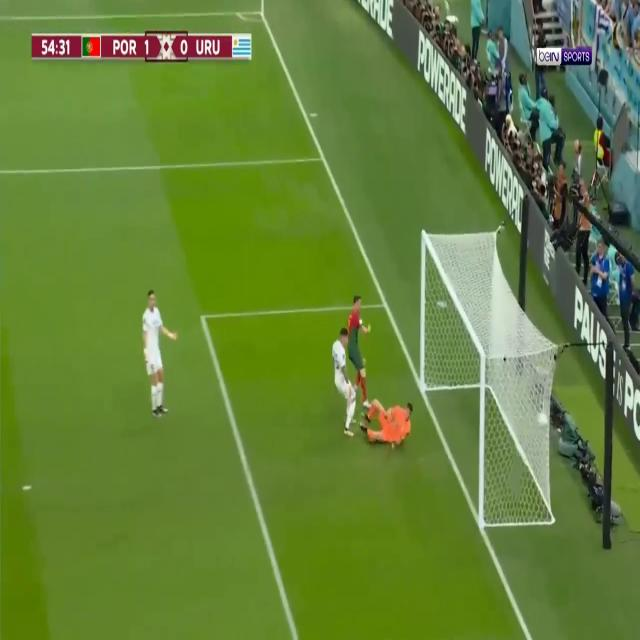ball: (538, 409, 548, 427)
team1: (346, 290, 373, 410)
team2: (139, 286, 180, 419), (331, 324, 357, 438)
